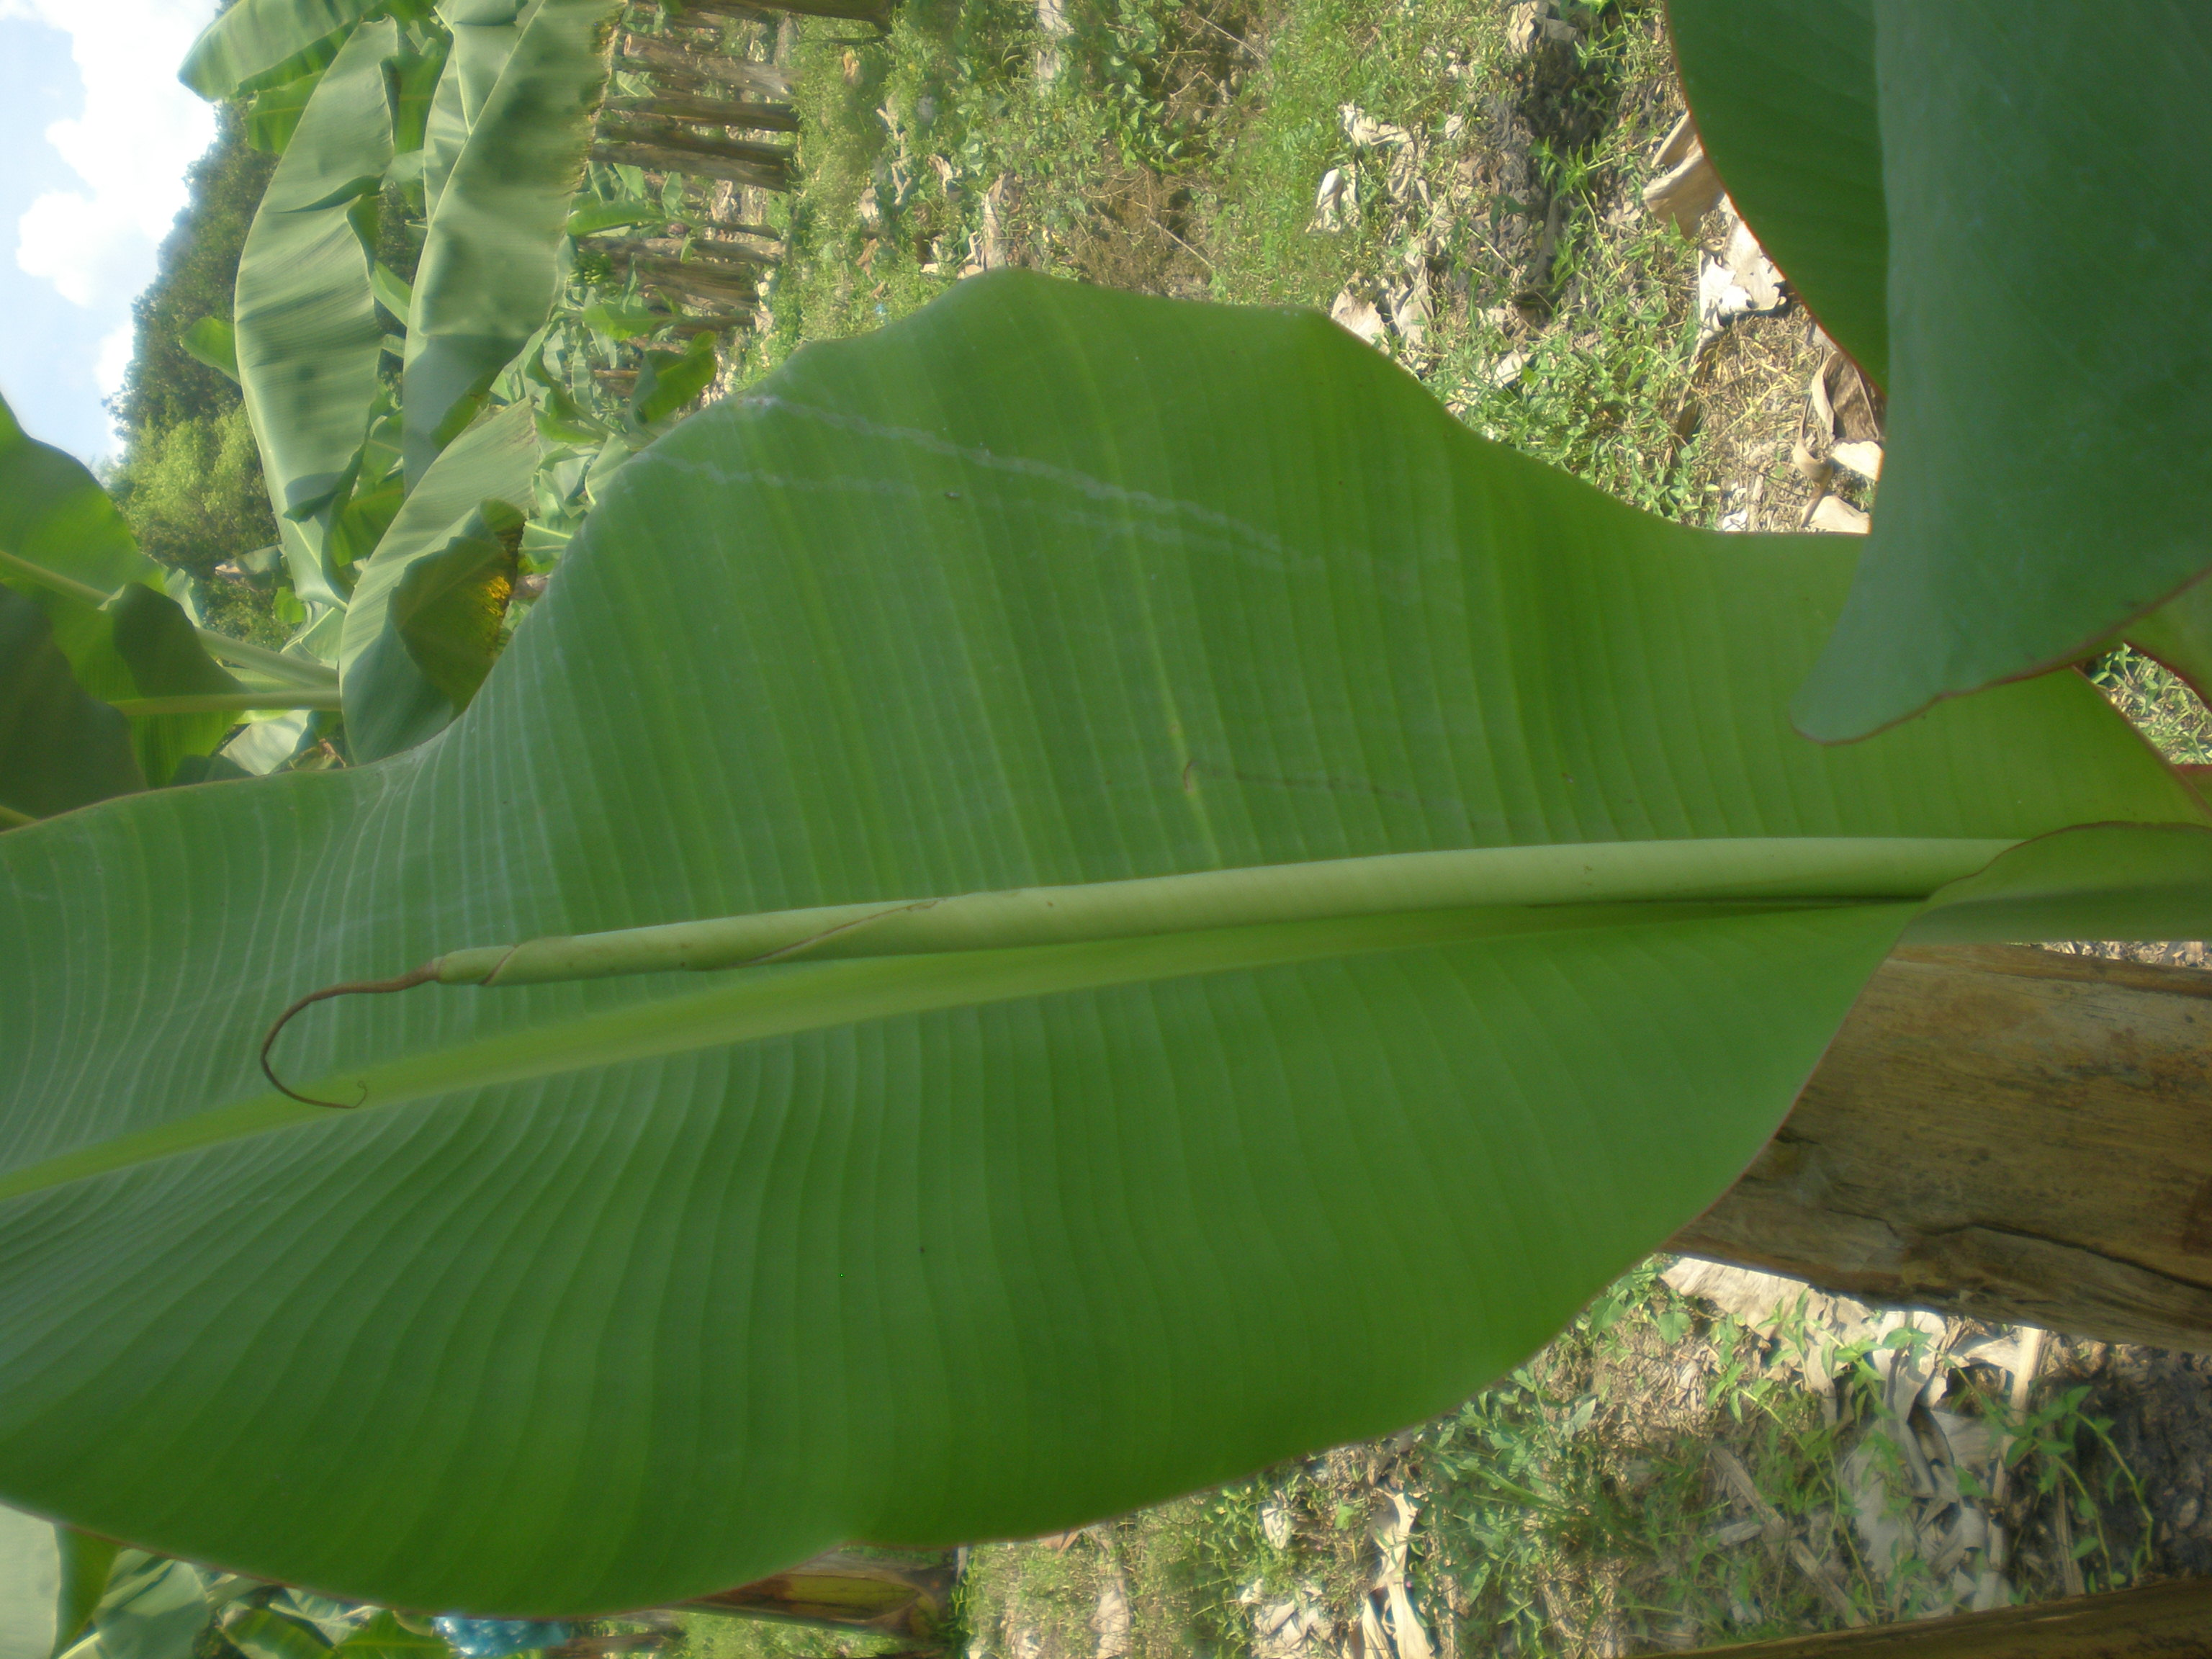candleleafs: (268, 835, 2005, 1126)
